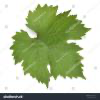grape leaf: (7, 4, 91, 85)
